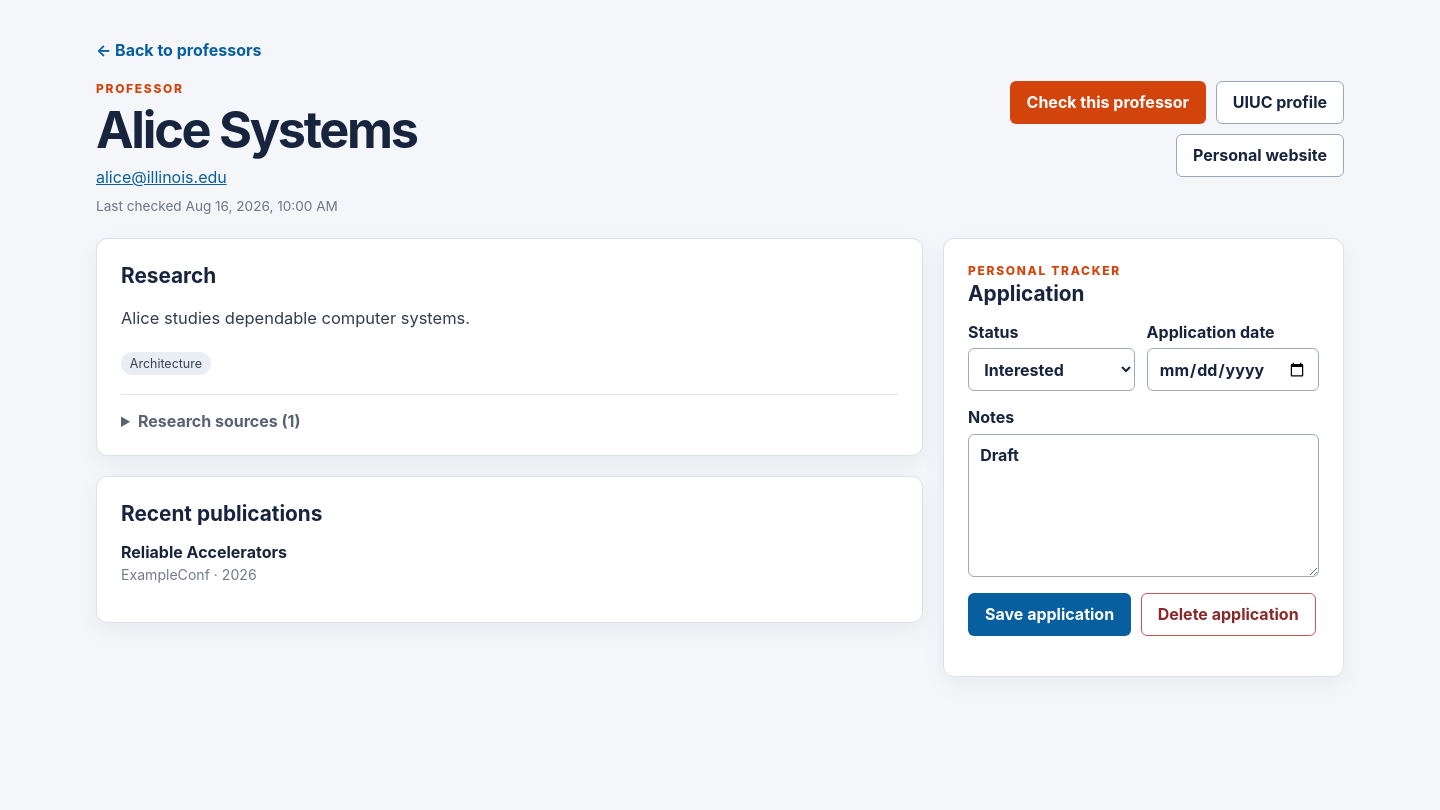
Test: deletes an existing application and returns to the empty state
Click the button "Delete application". click: (1228, 614)
box: [1141, 592, 1316, 636]
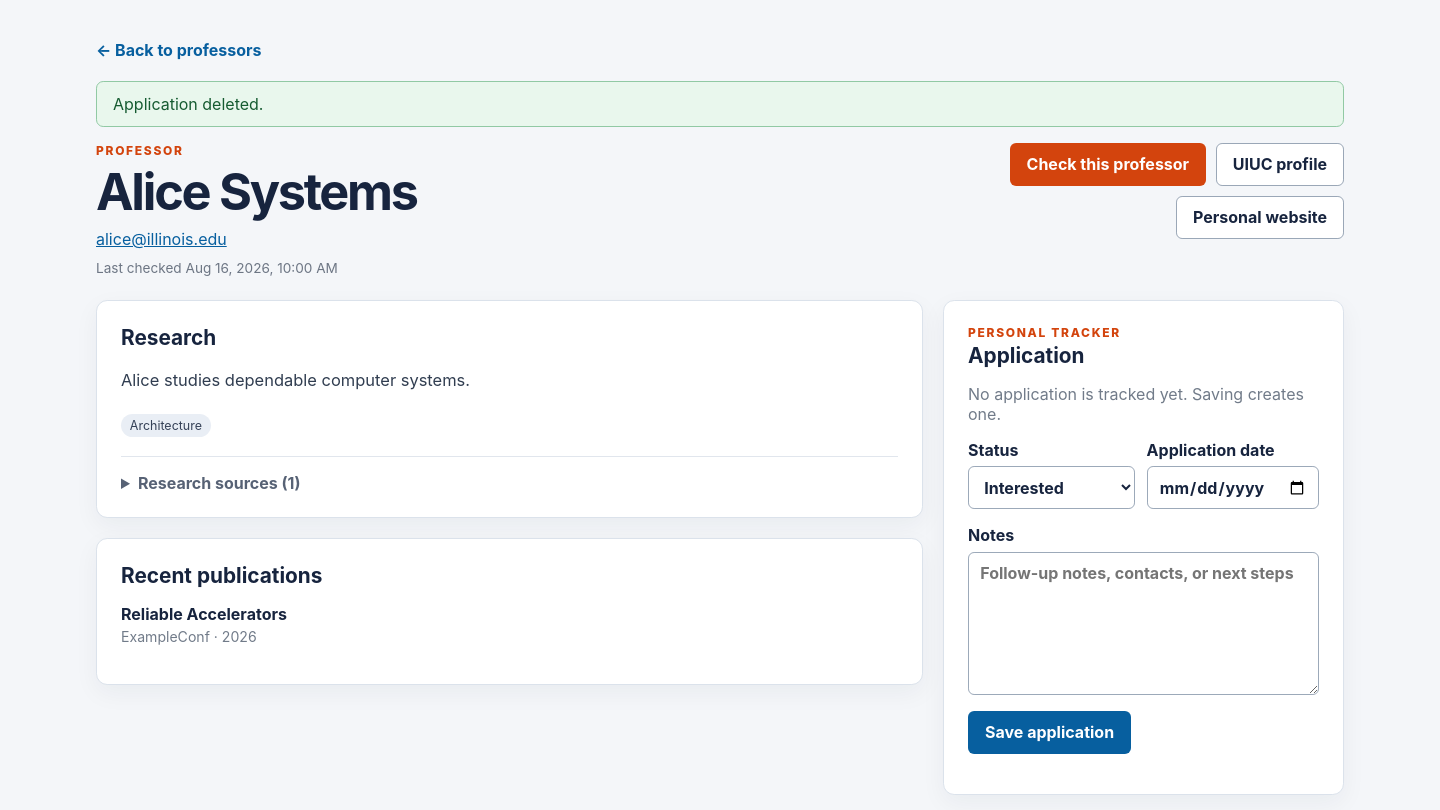
Expected: the text "No application is tracked yet. Saving creates one." is shown, [968, 384, 1319, 424]
